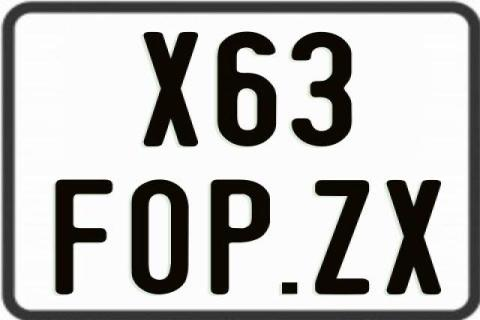0: (217, 32, 282, 150), (292, 32, 352, 150), (128, 178, 186, 296)
F: (55, 177, 119, 292)
P: (210, 179, 273, 296)
X: (141, 32, 199, 146), (383, 180, 439, 298)
Z: (315, 178, 372, 294)
